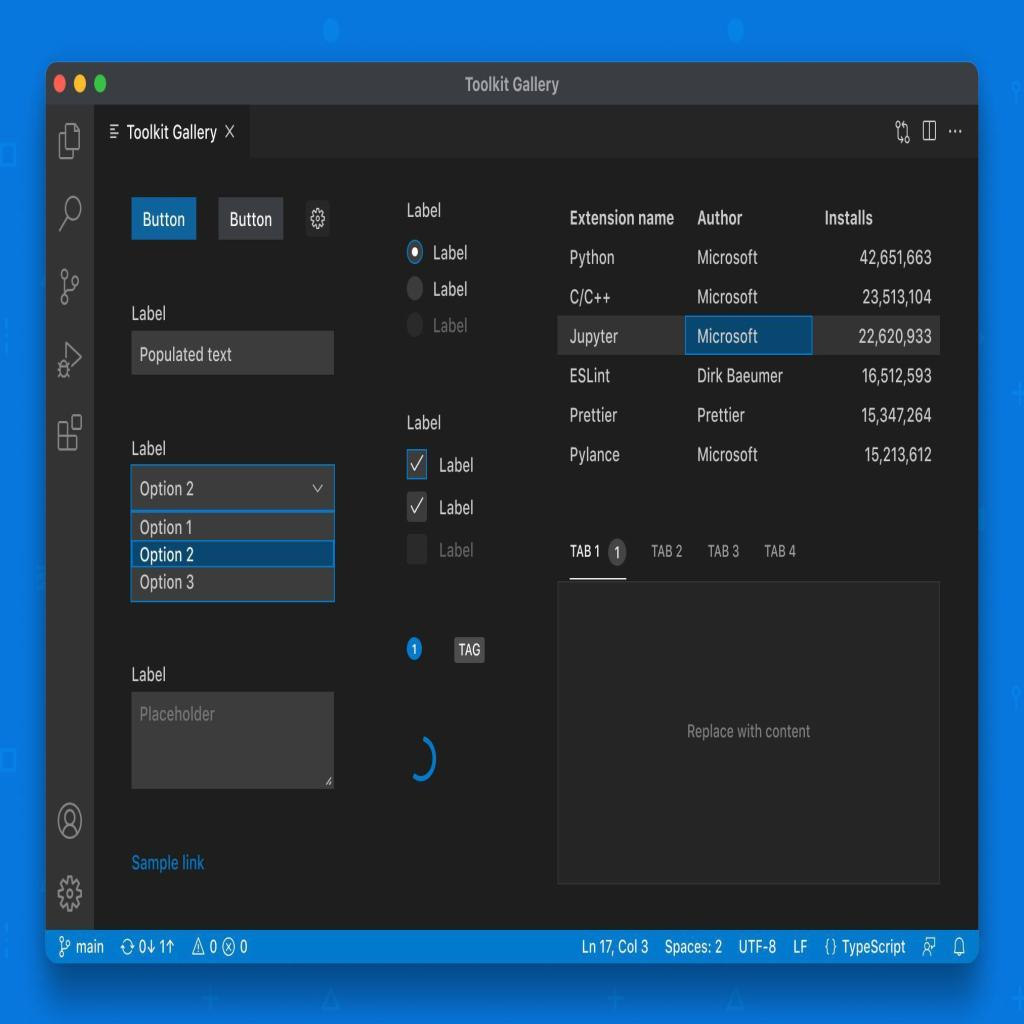button: (131, 567, 334, 601), (131, 513, 334, 540), (131, 541, 333, 566), (218, 195, 284, 241), (133, 196, 195, 241), (568, 532, 626, 580)
checkbox: (406, 533, 429, 564), (406, 490, 428, 522), (406, 449, 426, 479)
dropdown: (132, 466, 334, 510)
icon: (55, 410, 85, 455), (54, 194, 82, 240), (56, 870, 84, 916), (54, 338, 82, 380), (54, 800, 82, 842), (57, 264, 80, 311), (58, 122, 82, 166), (891, 115, 916, 152), (920, 114, 939, 150), (310, 202, 326, 233), (107, 114, 124, 140), (944, 122, 964, 140), (223, 124, 234, 142)
input: (132, 332, 335, 374)
label: (128, 851, 211, 878), (433, 490, 479, 520), (426, 311, 470, 339), (430, 237, 471, 267), (649, 536, 687, 568), (401, 410, 444, 438), (130, 658, 170, 688), (756, 536, 797, 565), (707, 533, 745, 564), (130, 436, 171, 463), (435, 535, 477, 561), (430, 275, 471, 301), (407, 194, 444, 222), (130, 302, 170, 326), (436, 455, 477, 476)
radio: (406, 274, 424, 302), (406, 239, 424, 266), (406, 311, 424, 338)
